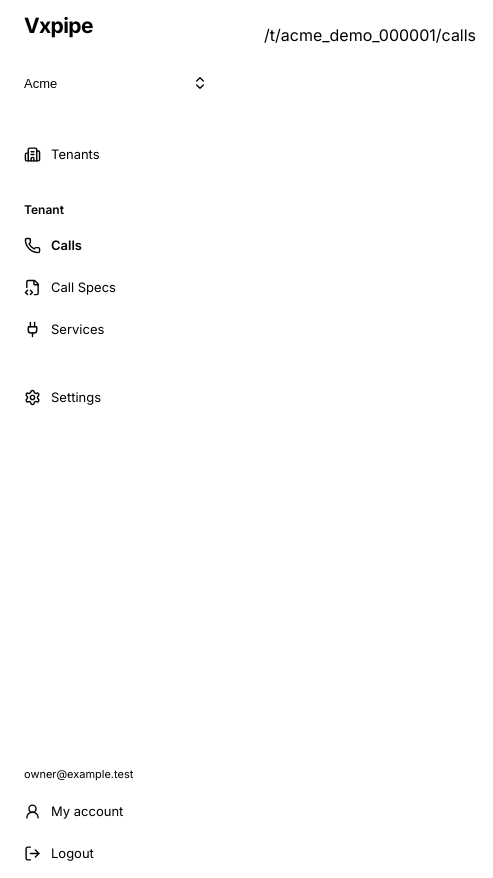
Test case: workspace exposes one Settings entry and settings replaces tenant navigation
Expected: the dropdown named "Switch tenant" is shown, x1=12 y1=62 x2=220 y2=104
Expected: the link "Users" is not shown
Click the link "Settings" at x=63, y=397, box x1=24 y1=388 x2=101 y2=406
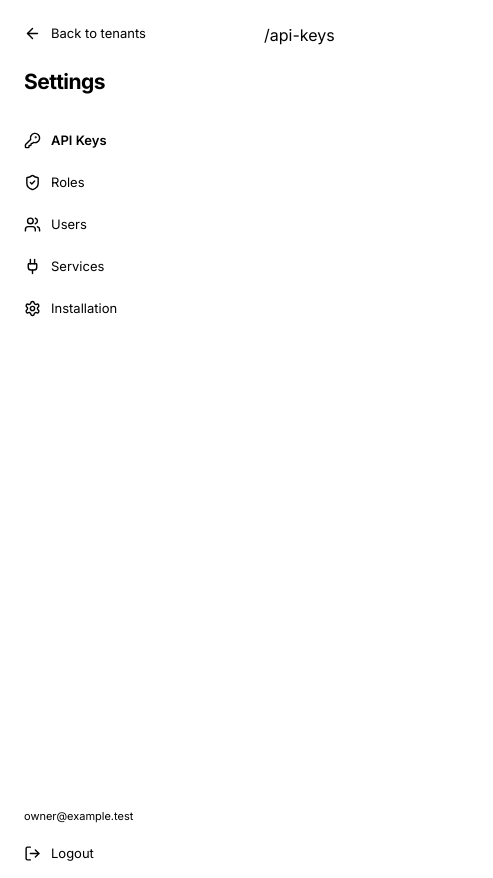
Expected: the dropdown labelled "Switch tenant" is gone
Expected: the links read "API Keys", "Roles", "Users", "Services", "Installation", in this order
Click the link "Users" at x=55, y=224, box x1=24 y1=216 x2=87 y2=232
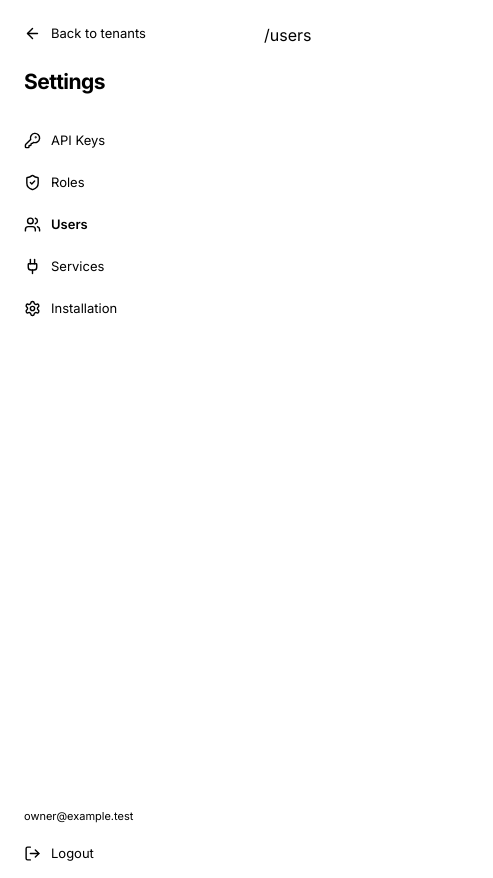
Expected: the link "Users" is marked as current, x1=24 y1=216 x2=88 y2=232
Click the link "Back to tenants" at x=85, y=33, box x1=24 y1=24 x2=146 y2=42
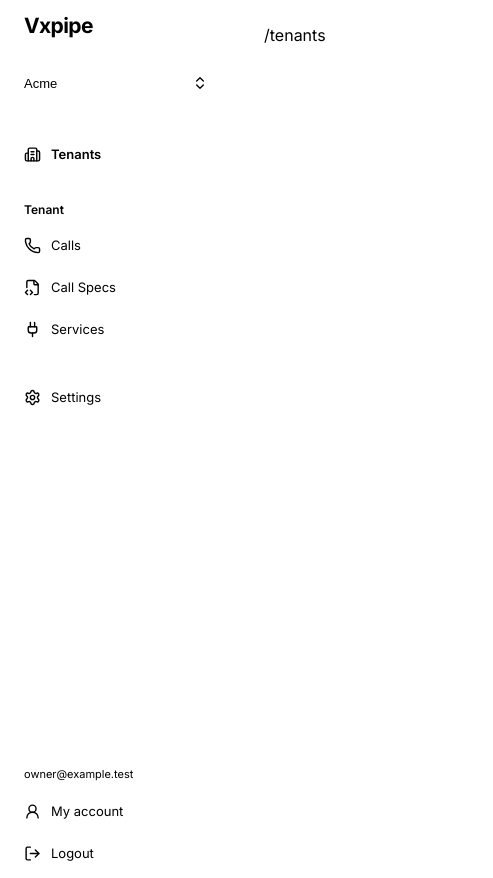
Expected: the text "/tenants" is shown, x1=264 y1=25 x2=326 y2=45
